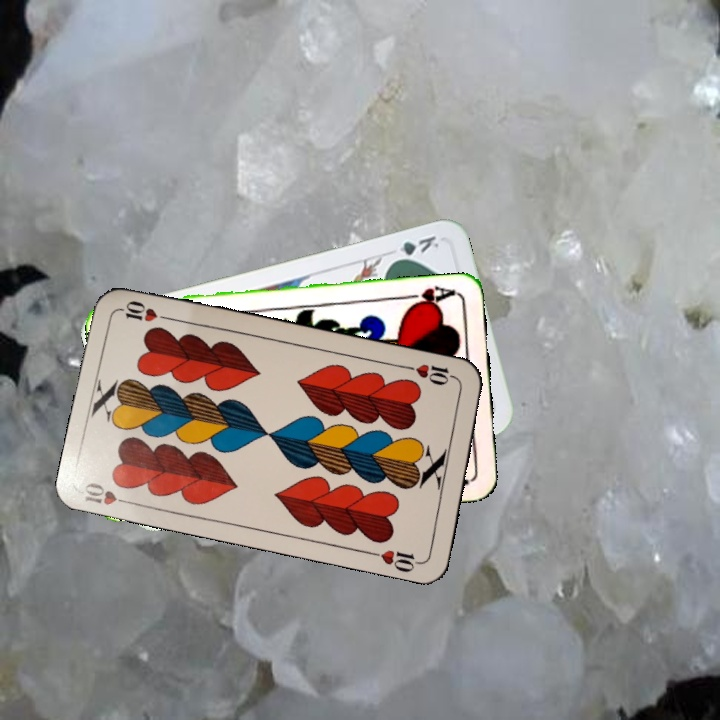GK: (387, 231, 442, 265)
H10: (80, 478, 138, 509), (402, 359, 460, 388)
HA: (399, 282, 458, 311)
